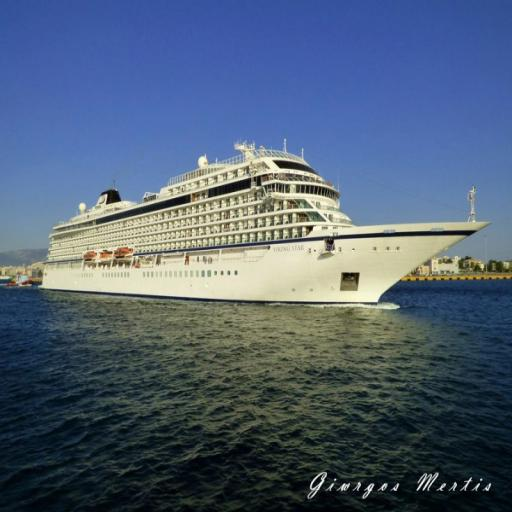cruises: (36, 136, 495, 317)
